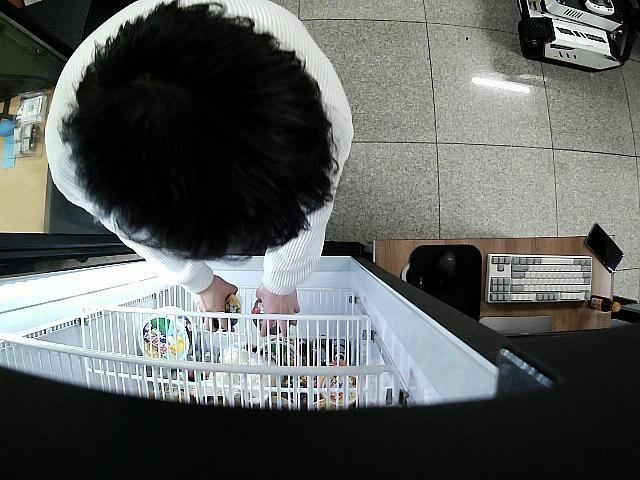08_buldak_S: (250, 299, 284, 337), (214, 294, 243, 328)
